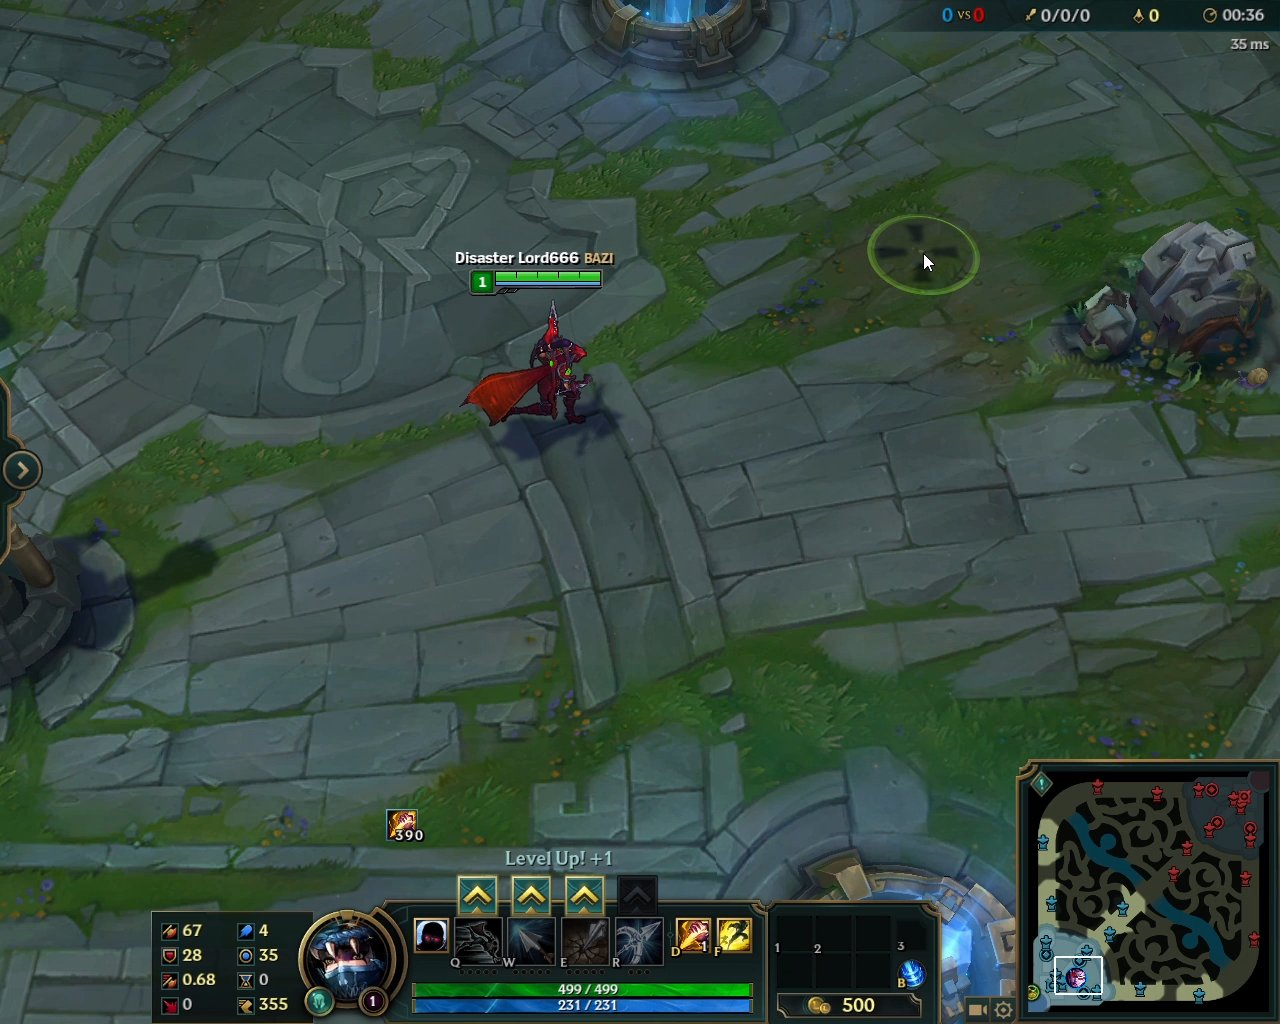Vayne: (459, 311, 596, 430)
